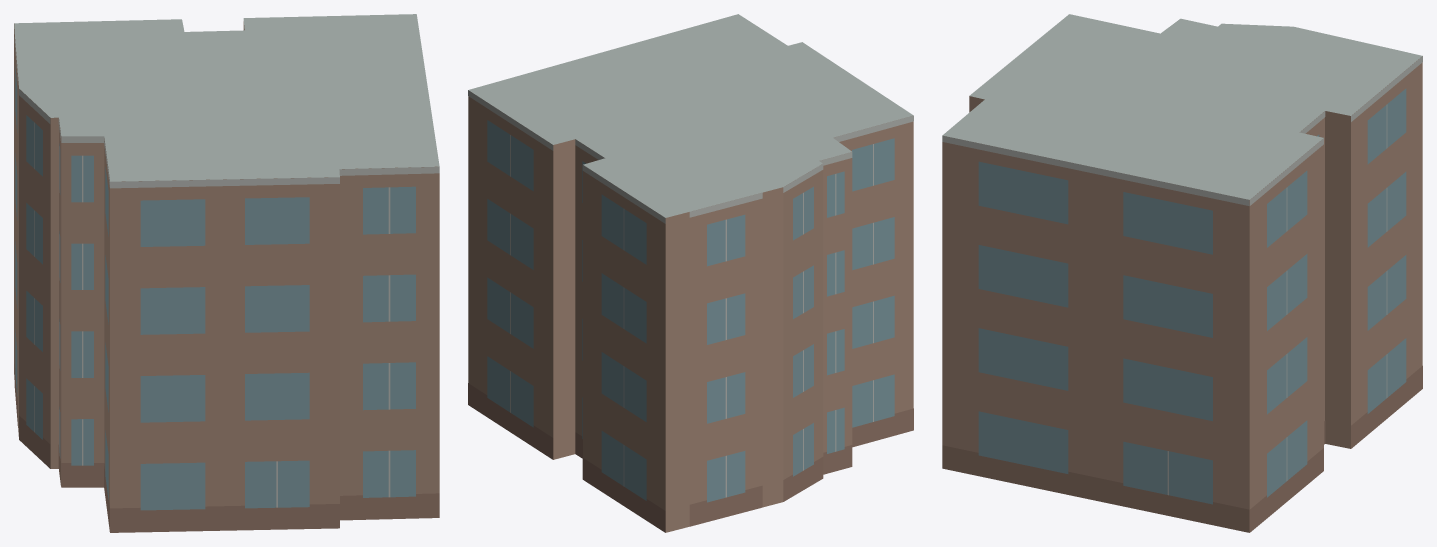
File: survey-upis-32670829.glb
3 renders of one model, left to right at view 1: azimuth 30°, elevation 25°; view 2: azimuth 150°, elevation 25°; view 3: azimuth 270°, elevation 25°, orthographic. The views are drawn at different scales.
Visible parts, largest first — view 1: survey-upis-32670829.tmp; view 2: survey-upis-32670829.tmp; view 3: survey-upis-32670829.tmp.
Boxes of the visible parts, left/top/right/bottom form: survey-upis-32670829.tmp: left=14, top=14, right=439, bottom=532; survey-upis-32670829.tmp: left=468, top=14, right=913, bottom=532; survey-upis-32670829.tmp: left=942, top=14, right=1422, bottom=532.
Size of the model in its own units: 15.33 by 12.8 by 16.75.
